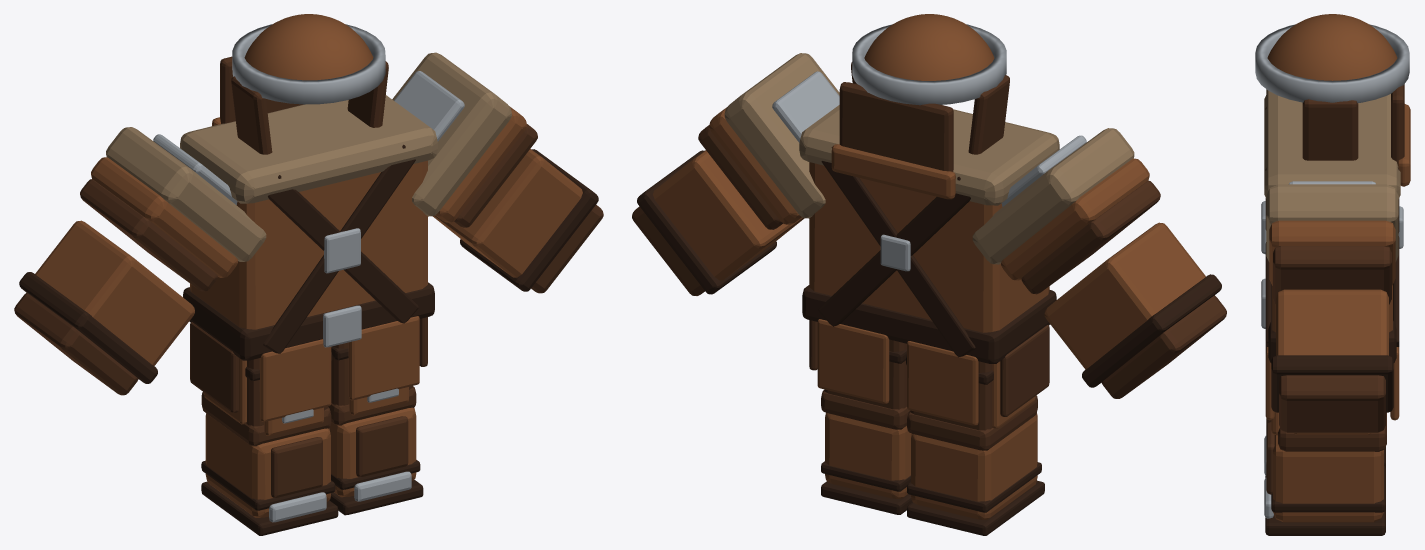
File: WarhideArmorSet.glb
3 views of the same model, side by side, from view 1: azimuth 30°, elevation 25°; view 2: azimuth 150°, elevation 25°; view 3: azimuth 270°, elevation 25° (orthographic).
Visible parts, largest first — view 1: WarhideChestplate, Right (×3), Left (×3), WarhideHelmet; view 2: WarhideChestplate, Right (×3), Left (×3), WarhideHelmet; view 3: Left (×3), WarhideHelmet, WarhideChestplate.
Boxes of the visible parts, x1,y1,x2,y2 form: WarhideChestplate: (180,95,437,421); Right (×3): (14,127,338,535); Left (×3): (328,52,603,515); WarhideHelmet: (212,14,388,154); WarhideChestplate: (799,105,1059,425); Right (×3): (906,128,1226,535); Left (×3): (632,53,912,514); WarhideHelmet: (831,14,1009,199); Left (×3): (1264,181,1398,535); WarhideHelmet: (1255,14,1410,186); WarhideChestplate: (1261,90,1403,420).
Size of the model in its own units: 6.37 by 5.31 by 1.57.
